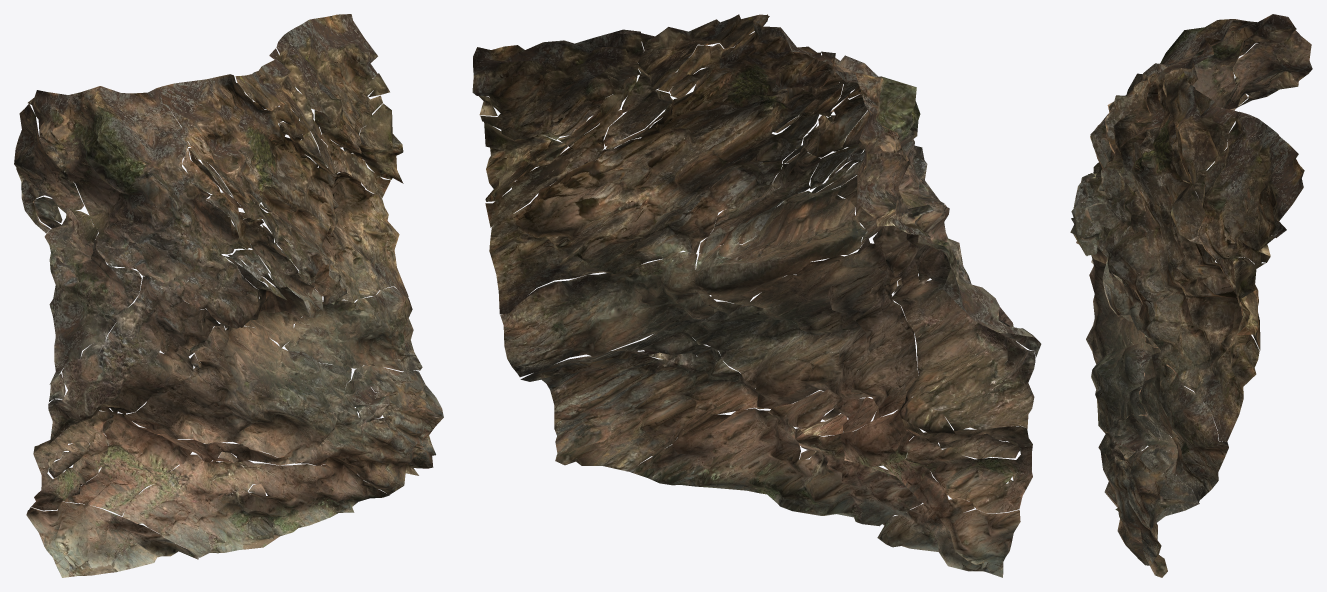
The model's file is mountainside.glb.
3 renders of one model, left to right at view 1: azimuth 30°, elevation 25°; view 2: azimuth 150°, elevation 25°; view 3: azimuth 270°, elevation 25°, orthographic. The views are drawn at different scales.
Visible parts, largest first — view 1: mountainside; view 2: mountainside; view 3: mountainside.
Boxes of the visible parts, bbox=[...] form: mountainside: bbox=[14, 14, 443, 577]; mountainside: bbox=[472, 14, 1041, 577]; mountainside: bbox=[1070, 14, 1312, 577].
Bounding box in the file's own units: 10.2 × 10.51 × 5.28.
1 material, 1 textured.
